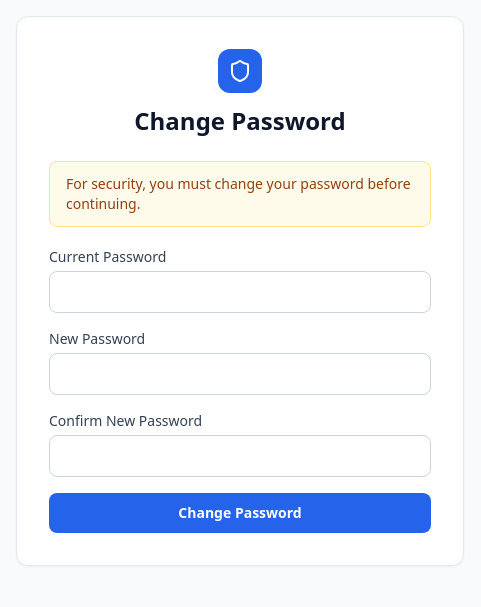
Scenario: ChangePasswordPage › shows error when passwords do not match
Type "admin" into the password field labelled "Current Password".
click(240, 292); type("admin")  # box top-left (49, 271), bottom-right (431, 313)
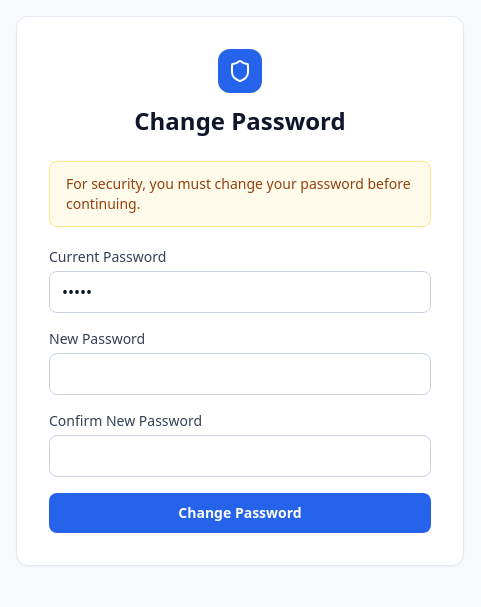
Type "newpass1" into the password field labelled "New Password".
click(240, 374); type("newpass1")  # box top-left (49, 353), bottom-right (431, 395)
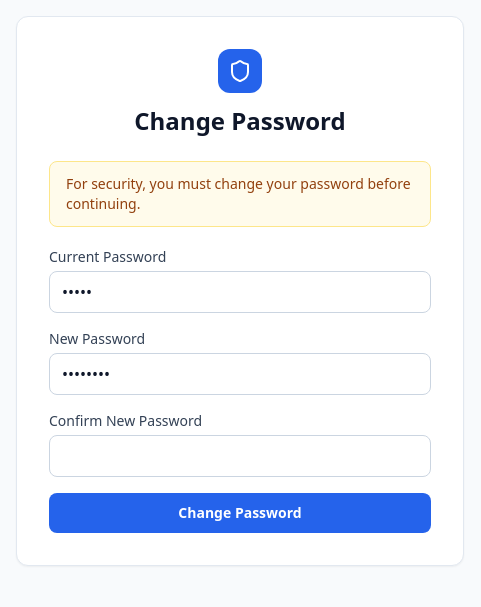
Type "newpass2" into the password field labelled "Confirm New Password".
click(240, 456); type("newpass2")  # box top-left (49, 435), bottom-right (431, 477)
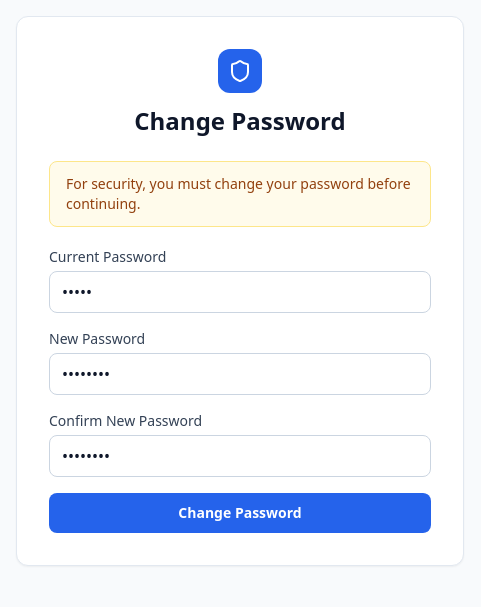
Click the button "Change Password".
click(240, 513)  # box top-left (49, 493), bottom-right (431, 533)
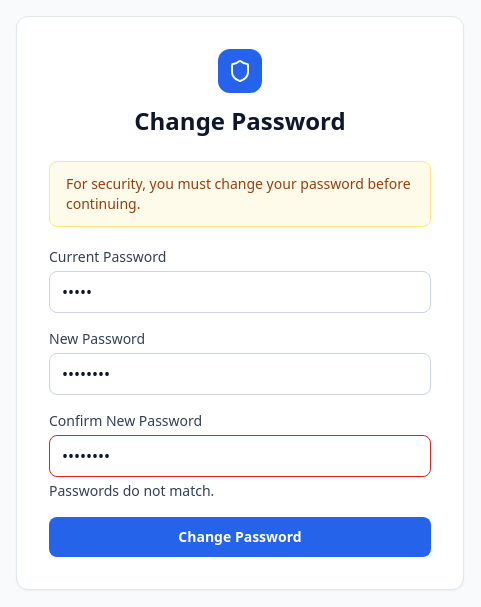
Now the text "Passwords do not match." is shown, box top-left (49, 481), bottom-right (214, 500)
